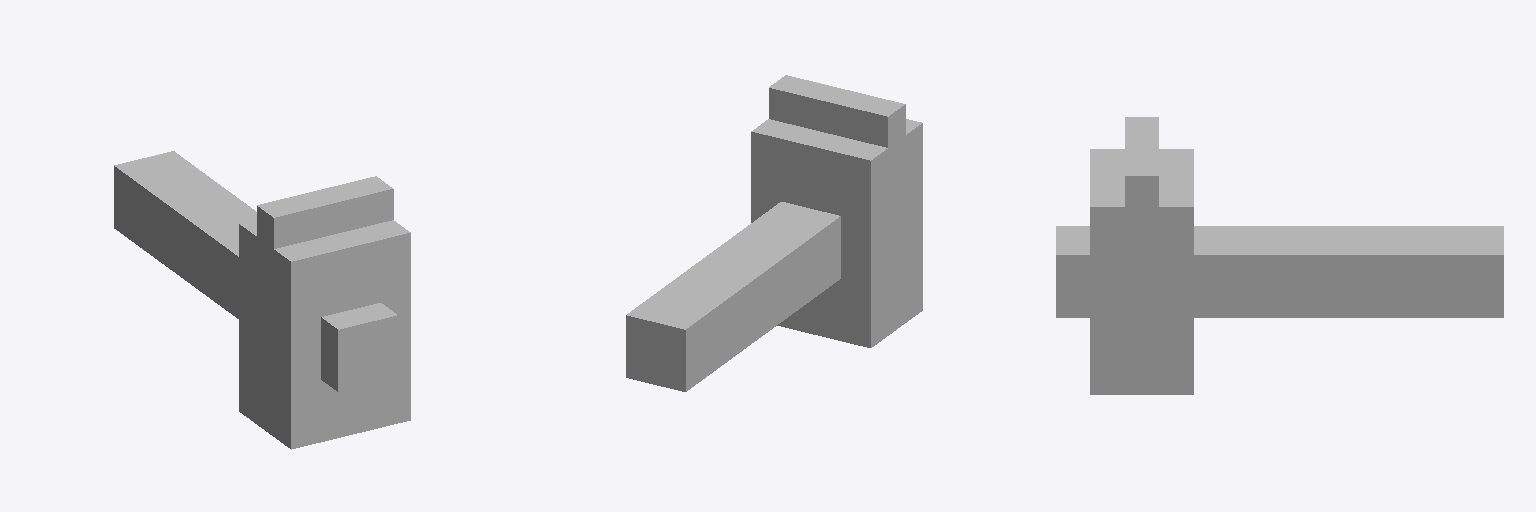
File: smithhammer.obj
3 renders of one model, left to right at view 1: azimuth 30°, elevation 25°; view 2: azimuth 150°, elevation 25°; view 3: azimuth 270°, elevation 25°, orthographic.
Parts seen in each view (by area): view 1: SamAsBlacksmith; view 2: SamAsBlacksmith; view 3: SamAsBlacksmith.
Boxes of the visible parts, x1=… form: SamAsBlacksmith: x1=114, y1=151, x2=410, y2=449; SamAsBlacksmith: x1=626, y1=75, x2=922, y2=391; SamAsBlacksmith: x1=1056, y1=117, x2=1503, y2=394.
Bounding box in the file's own units: 4 × 7 × 13.